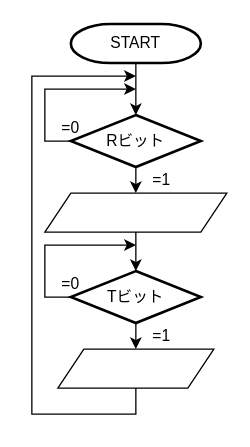
Image size: 250x447. Some labels were removed from this diagram. The shapes that lost their labels are listed below. From the top down, each one's centre as x and y in pixels, then its label:
(x=135, y=212): G0へSIOから入力
(x=135, y=368): G0をSIOへ出力
